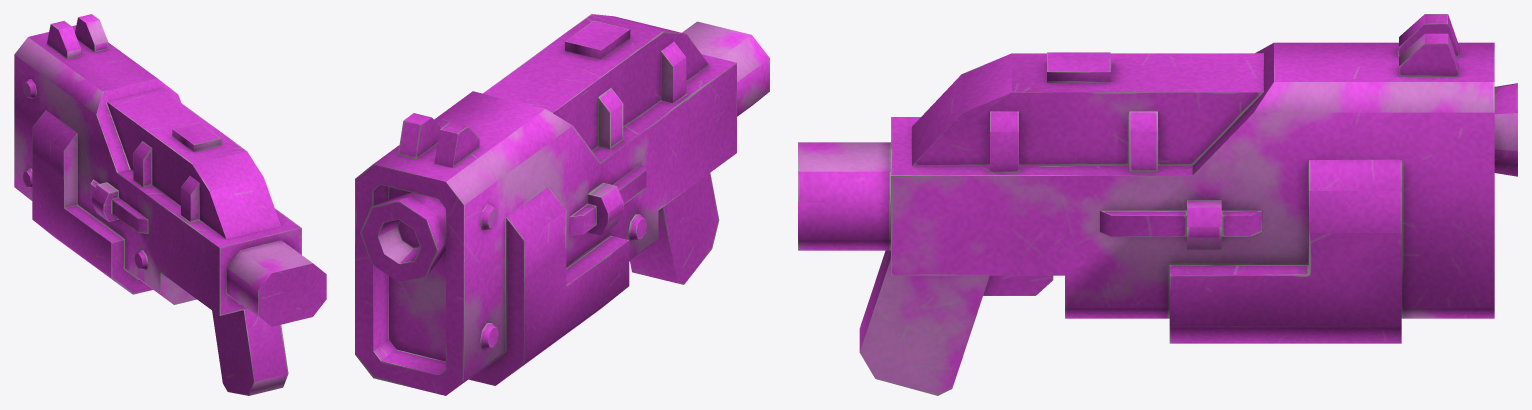
The model's file is blaster-m.glb.
3 views of the same model, side by side, from view 1: azimuth 30°, elevation 25°; view 2: azimuth 150°, elevation 25°; view 3: azimuth 270°, elevation 25° (orthographic). The views are drawn at different scales.
Parts seen in each view (by area): view 1: blaster-m; view 2: blaster-m; view 3: blaster-m.
Part boxes in pixels (left/top/right/bottom): blaster-m: left=14, top=14, right=326, bottom=395; blaster-m: left=355, top=14, right=769, bottom=395; blaster-m: left=798, top=14, right=1517, bottom=395.
Size of the model in its own units: 0.165 by 0.3374 by 0.6201.
1 material, 1 textured.
